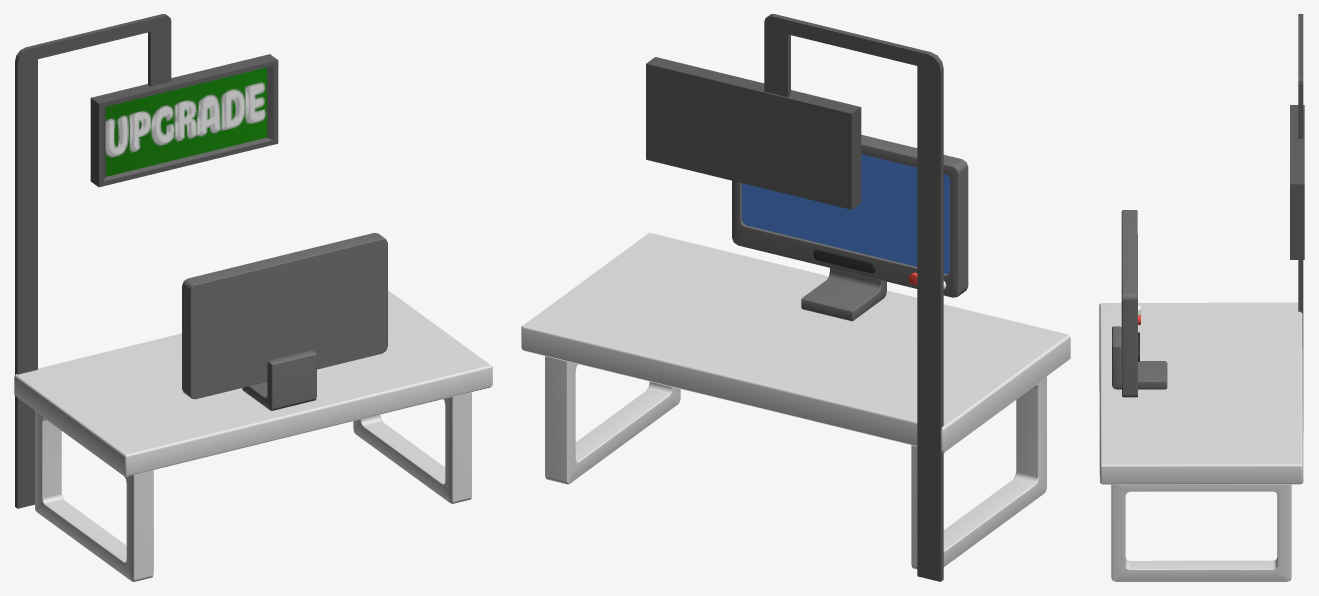
The picture shows the model from 3 angles, left to right: view 1: azimuth 30°, elevation 25°; view 2: azimuth 150°, elevation 25°; view 3: azimuth 270°, elevation 25°; orthographic projection. The views are drawn at different scales.
Parts seen in each view (by area): view 1: SM_Upgrade_Area; view 2: SM_Upgrade_Area; view 3: SM_Upgrade_Area.
Part boxes in pixels (left/top/right/bottom): SM_Upgrade_Area: left=14, top=14, right=492, bottom=581; SM_Upgrade_Area: left=521, top=14, right=1070, bottom=581; SM_Upgrade_Area: left=1099, top=14, right=1304, bottom=581.
Size of the model in its own units: 412 by 490 by 219.
